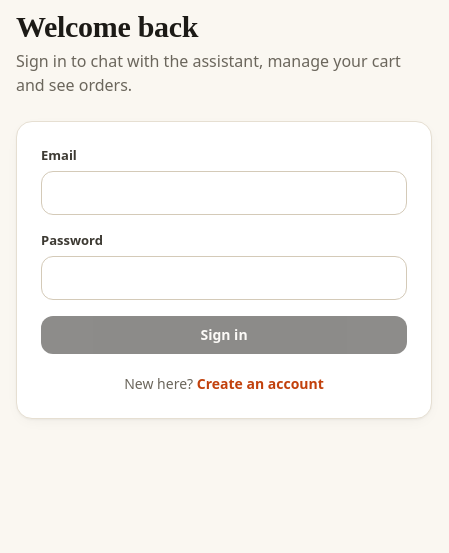
Test: LoginPage › shows the server's error message
Step 1. Type "a@example.com" into the field labelled "Email" → [224, 193], box [41, 171, 407, 215]
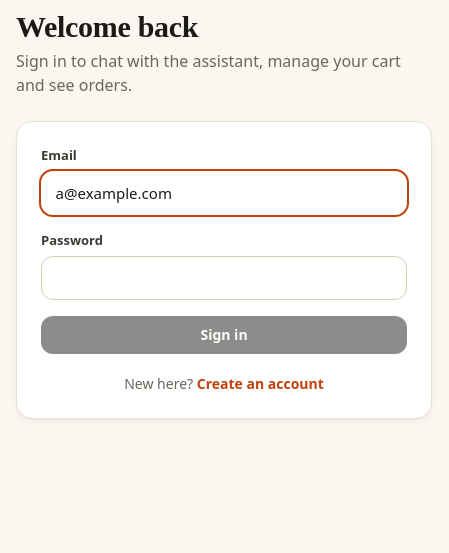
Step 2. Type "wrong" into the password field labelled "Password" → [224, 278], box [41, 256, 407, 300]
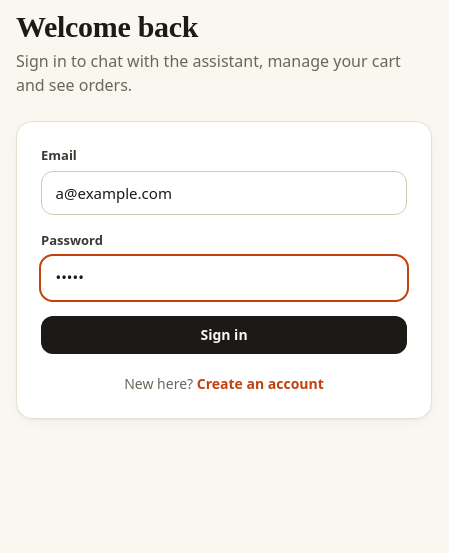
Step 3. Click the button "Sign in" → [224, 335], box [41, 316, 407, 354]
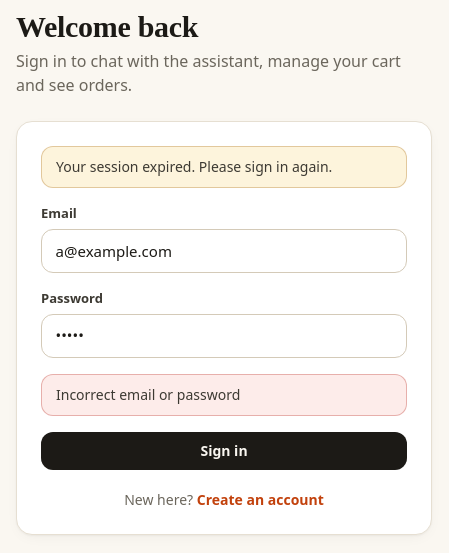
Now the text "Incorrect email or password" is shown, box [56, 385, 240, 404]
